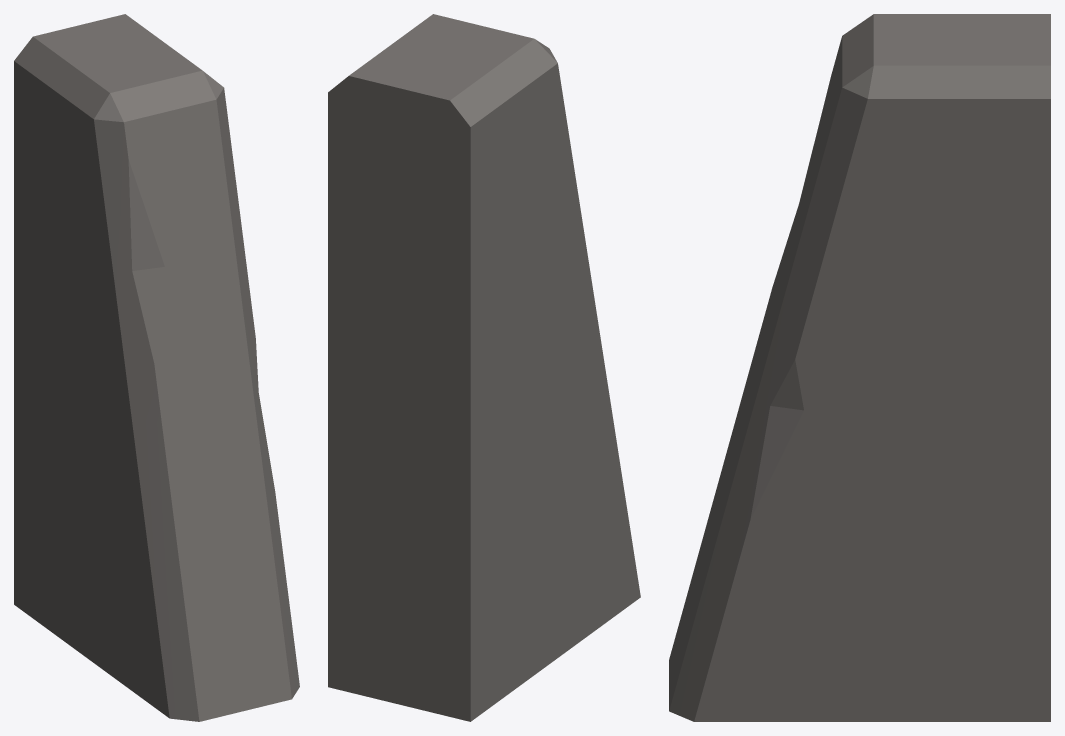
File: SM_Env_Canal_Block_01.glb
The picture shows the model from 3 angles, left to right: view 1: azimuth 30°, elevation 25°; view 2: azimuth 150°, elevation 25°; view 3: azimuth 270°, elevation 25°; orthographic projection. The views are drawn at different scales.
Parts seen in each view (by area): view 1: SM_Env_Canal_Block_01; view 2: SM_Env_Canal_Block_01; view 3: SM_Env_Canal_Block_01.
Boxes of the visible parts, <box> form: SM_Env_Canal_Block_01: <box>14,14,299,721</box>; SM_Env_Canal_Block_01: <box>328,14,640,721</box>; SM_Env_Canal_Block_01: <box>669,14,1050,721</box>.
Bounding box in the file's own units: 0.4516 × 1.87 × 1.
Materials: 1 (1 with a texture image).
